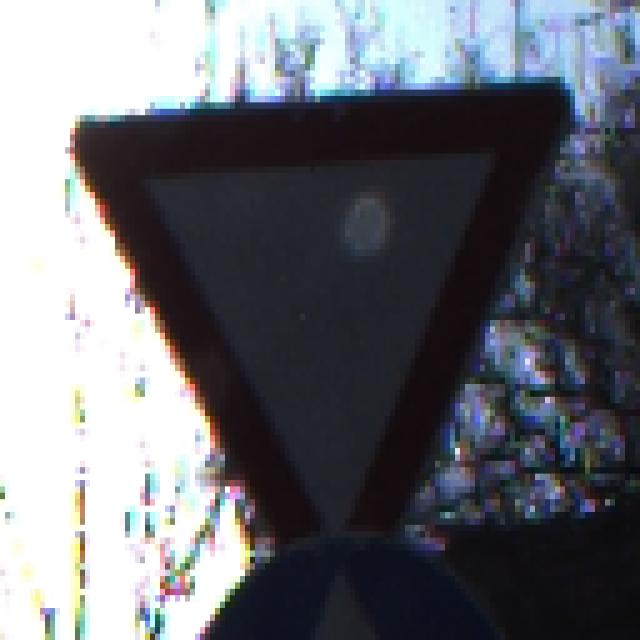Give Way: (61, 59, 586, 590)
